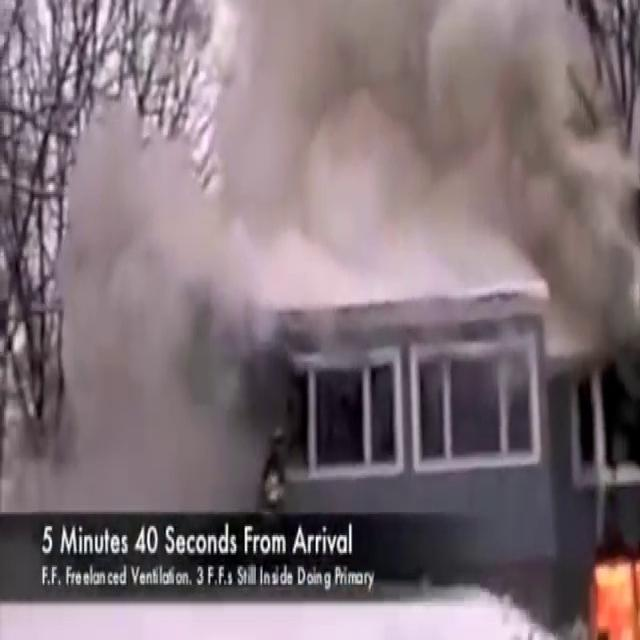Smoke: (11, 0, 635, 284), (0, 79, 302, 521)
